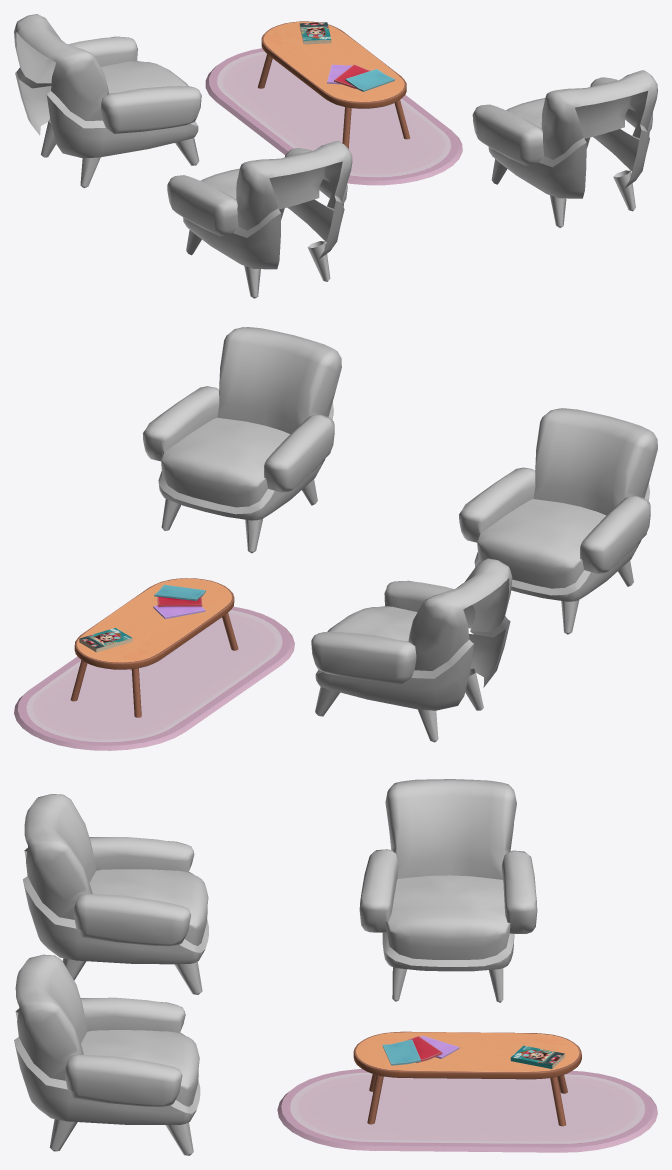
File: sofa setup (1).fbx
3 views of the same model, one above another, from view 1: azimuth 30°, elevation 25°; view 2: azimuth 150°, elevation 25°; view 3: azimuth 270°, elevation 25° (orthographic). The views are drawn at different scales.
Parts seen in each view (by area): view 1: Table1; view 2: Table1; view 3: Table1.
Part boxes in pixels (x1,y1,x2,y2): Table1: (14, 14, 657, 298); Table1: (14, 327, 657, 750); Table1: (14, 779, 657, 1155).
Bounding box in the file's own units: 905 × 300 × 1012.
